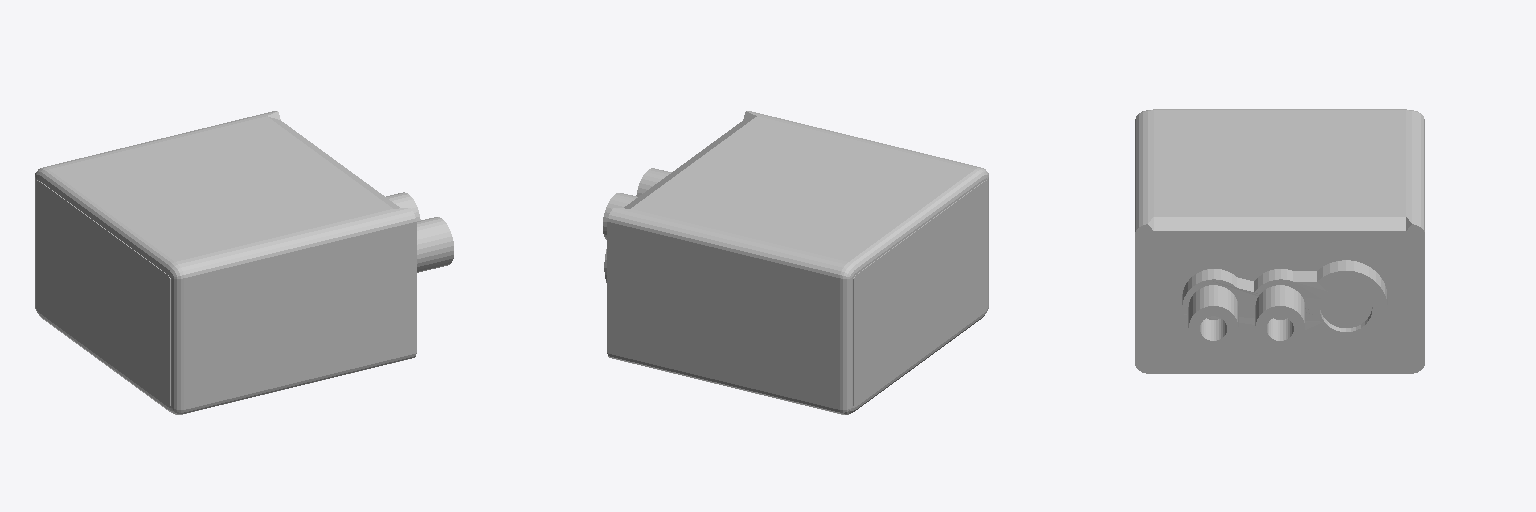
The model's file is V5 Smart Motor (276-4840).obj.
3 renders of one model, left to right at view 1: azimuth 30°, elevation 25°; view 2: azimuth 150°, elevation 25°; view 3: azimuth 270°, elevation 25°, orthographic.
Parts seen in each view (by area): view 1: Cube; view 2: Cube; view 3: Cube.
Part boxes in pixels (x1,y1,x2,y2): Cube: (35,111,453,414); Cube: (603,111,988,414); Cube: (1135,109,1424,373).
Size of the model in its own units: 68.66 by 32.4 by 56.38.